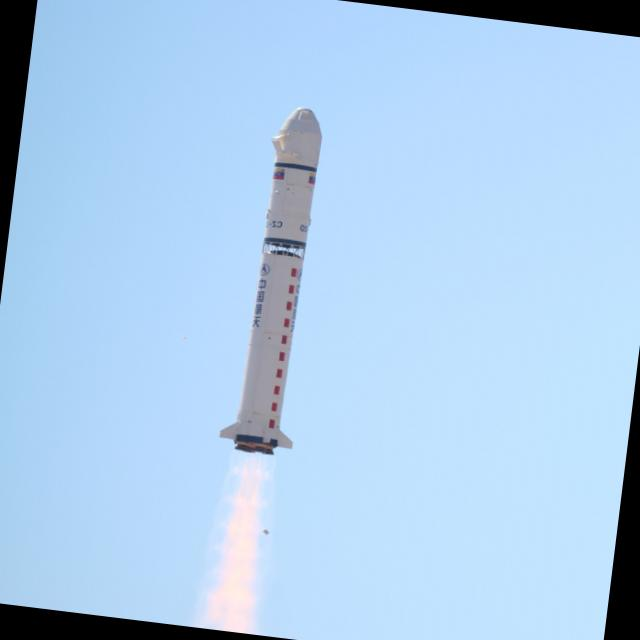rocket: (204, 101, 332, 632)
